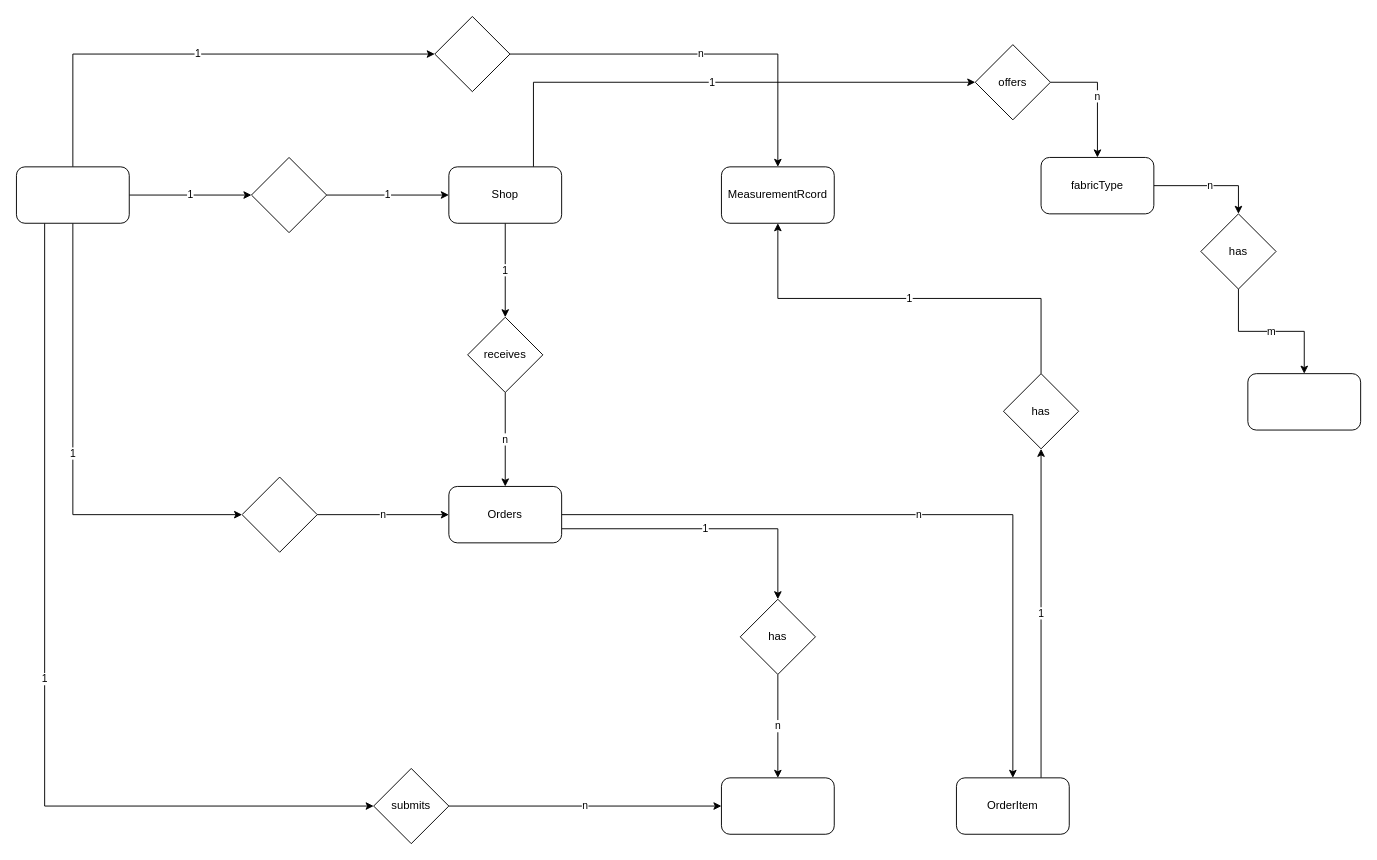
This 1377x860 diagram has some shape labels left out. The shapes that lost their labels are listed below. From the top down, each one's box as (x1, y1, x2, y2) in pixels, then its label:
(434, 16, 510, 92): enters
(16, 166, 129, 223): User
(251, 157, 327, 233): own
(1247, 373, 1361, 430): color
(241, 476, 317, 552): place
(721, 777, 834, 834): Payments
